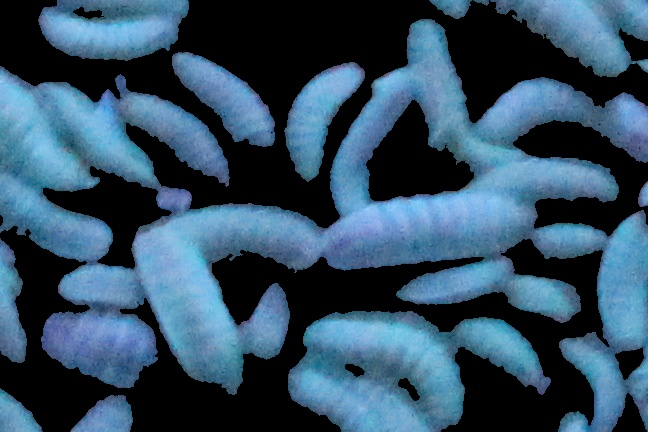larvae: (292, 310, 478, 403), (325, 190, 533, 272), (327, 62, 419, 208), (159, 223, 229, 412), (392, 19, 481, 165), (1, 57, 95, 194), (42, 79, 156, 185), (176, 50, 277, 162), (481, 1, 633, 73), (285, 361, 431, 432), (470, 60, 595, 141), (164, 204, 320, 268), (124, 87, 235, 176), (470, 142, 621, 206), (42, 307, 159, 386), (284, 65, 364, 178), (1, 193, 124, 262), (597, 205, 648, 349), (38, 11, 181, 62), (556, 336, 631, 432), (396, 256, 522, 304), (467, 307, 546, 382), (52, 260, 151, 309), (242, 280, 291, 363), (507, 273, 582, 325), (532, 215, 606, 263), (1, 246, 28, 357)
